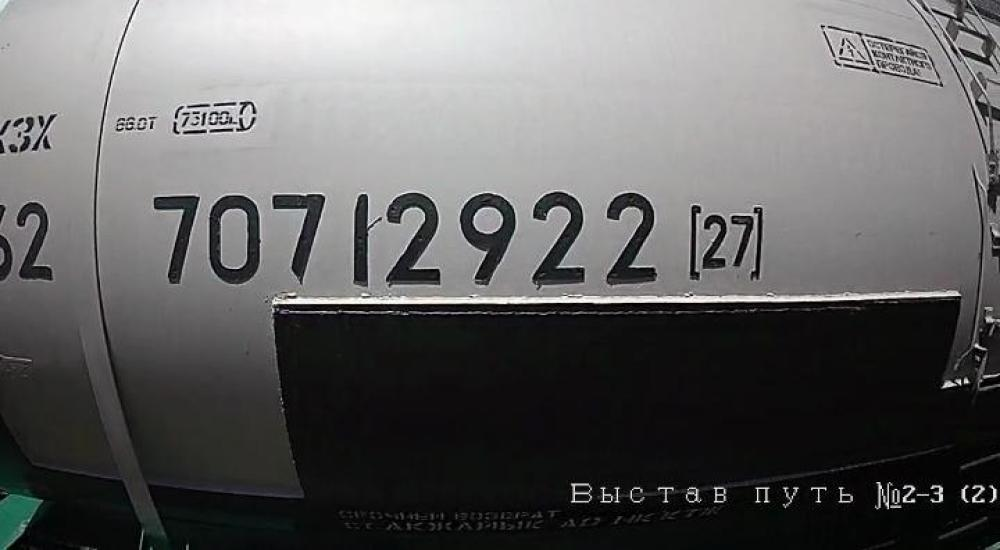Wagon-number: (148, 184, 663, 290)
